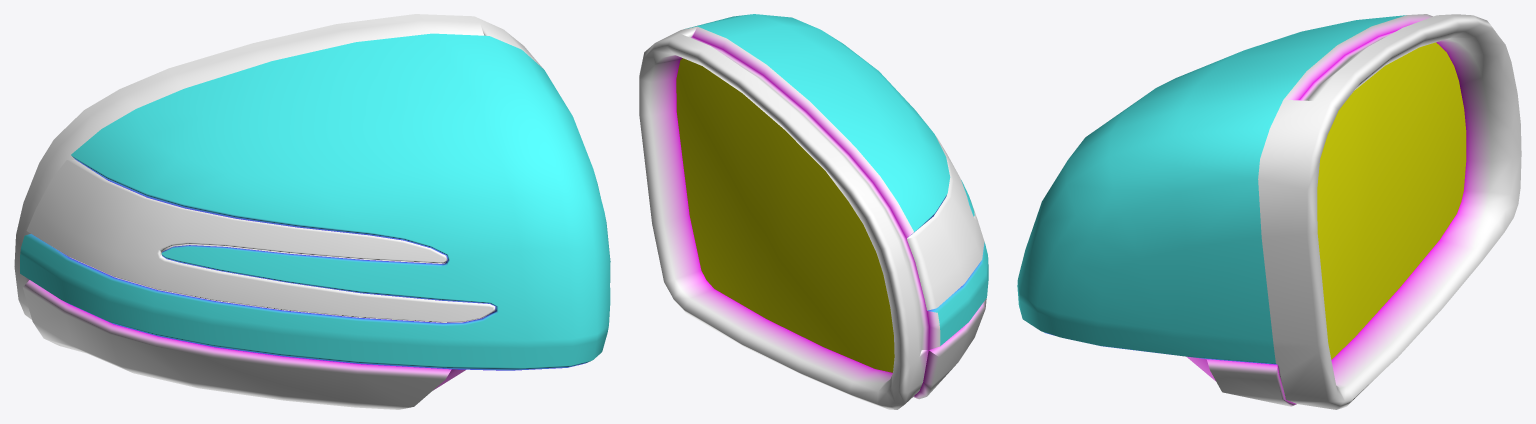
File: Car_MercedesBenz_AMGGT_2015_MirrorR_SetGTR.fbx
The picture shows the model from 3 angles, left to right: view 1: azimuth 30°, elevation 25°; view 2: azimuth 150°, elevation 25°; view 3: azimuth 270°, elevation 25°; orthographic projection. The views are drawn at different scales.
Parts seen in each view (by area): view 1: MirrorR 6; view 2: MirrorR 6; view 3: MirrorR 6.
Boxes of the visible parts, x1,y1,x2,y2 form: MirrorR 6: (14, 14, 610, 409); MirrorR 6: (639, 14, 988, 409); MirrorR 6: (1017, 14, 1521, 409).
Size of the model in its own units: 0.1899 by 0.1331 by 0.1866.
